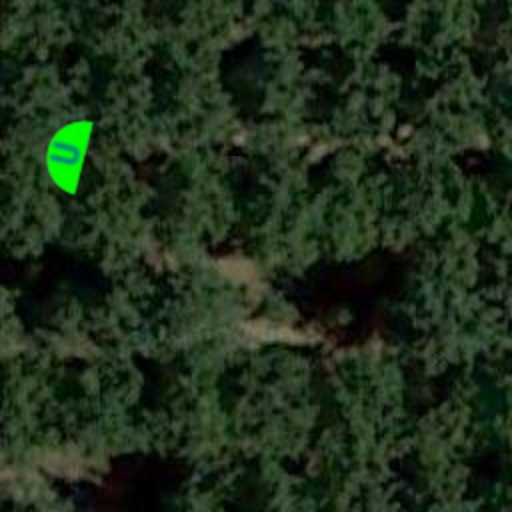semicircle: (20, 108, 112, 200)
